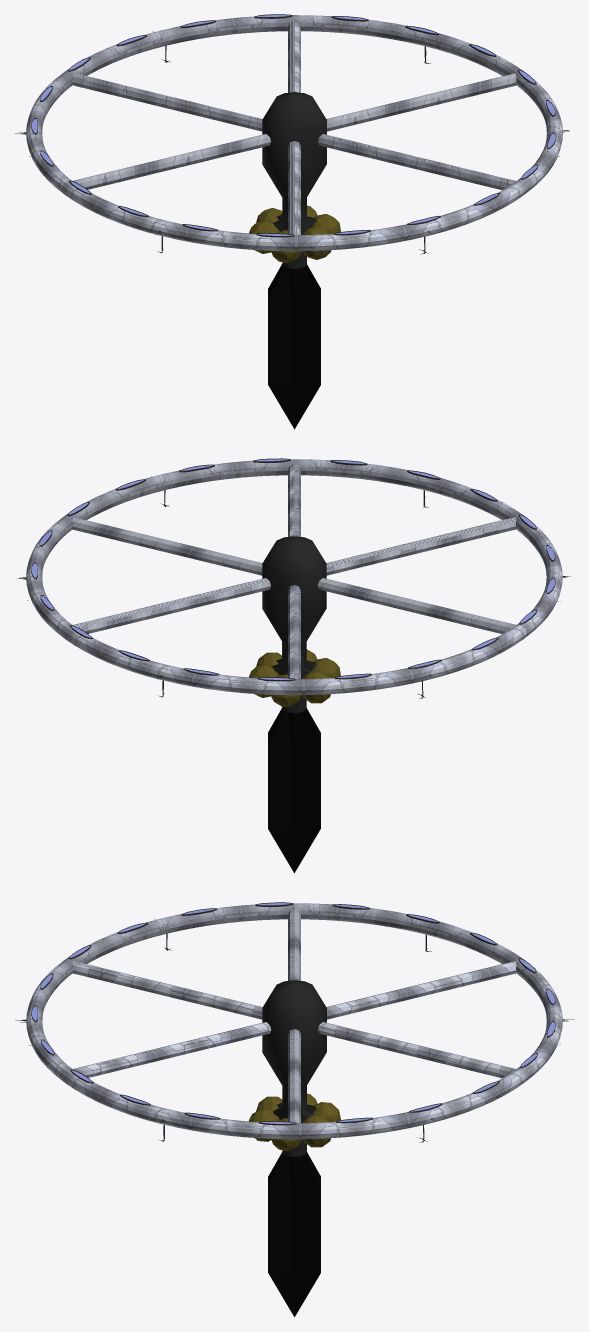
File: station.glb
3 renders of one model, top to bottom at view 1: azimuth 30°, elevation 25°; view 2: azimuth 150°, elevation 25°; view 3: azimuth 270°, elevation 25°, orthographic.
Visible parts, largest first — view 1: Torus, Cylinder.006, Cylinder.004, Cylinder.005, Cylinder.001, Cylinder.003, Cylinder.002; view 2: Torus, Cylinder.006, Cylinder.004, Cylinder.005, Cylinder.001, Cylinder.003, Cylinder.002; view 3: Torus, Cylinder.006, Cylinder.004, Cylinder.005, Cylinder.001, Cylinder.003, Cylinder.002.
Part boxes in pixels (x1,y1,x2,y2): Torus: (26, 15, 562, 251); Cylinder.006: (72, 19, 516, 235); Cylinder.004: (268, 264, 320, 429); Cylinder.005: (262, 92, 326, 268); Cylinder.001: (15, 14, 569, 254); Cylinder.003: (249, 205, 340, 263); Cylinder.002: (31, 15, 555, 235); Torus: (26, 459, 562, 695); Cylinder.006: (72, 463, 516, 679); Cylinder.004: (268, 708, 320, 872); Cylinder.005: (262, 536, 326, 712); Cylinder.001: (17, 458, 570, 698); Cylinder.003: (249, 649, 340, 706); Cylinder.002: (31, 459, 555, 679); Torus: (26, 903, 562, 1139); Cylinder.006: (72, 907, 516, 1123); Cylinder.004: (268, 1152, 320, 1316); Cylinder.005: (262, 980, 326, 1156); Cylinder.001: (15, 902, 574, 1142); Cylinder.003: (249, 1093, 340, 1151); Cylinder.002: (31, 903, 555, 1123).
Size of the model in its own units: 16.64 by 11.43 by 17.39.
7 materials, 2 textured.
